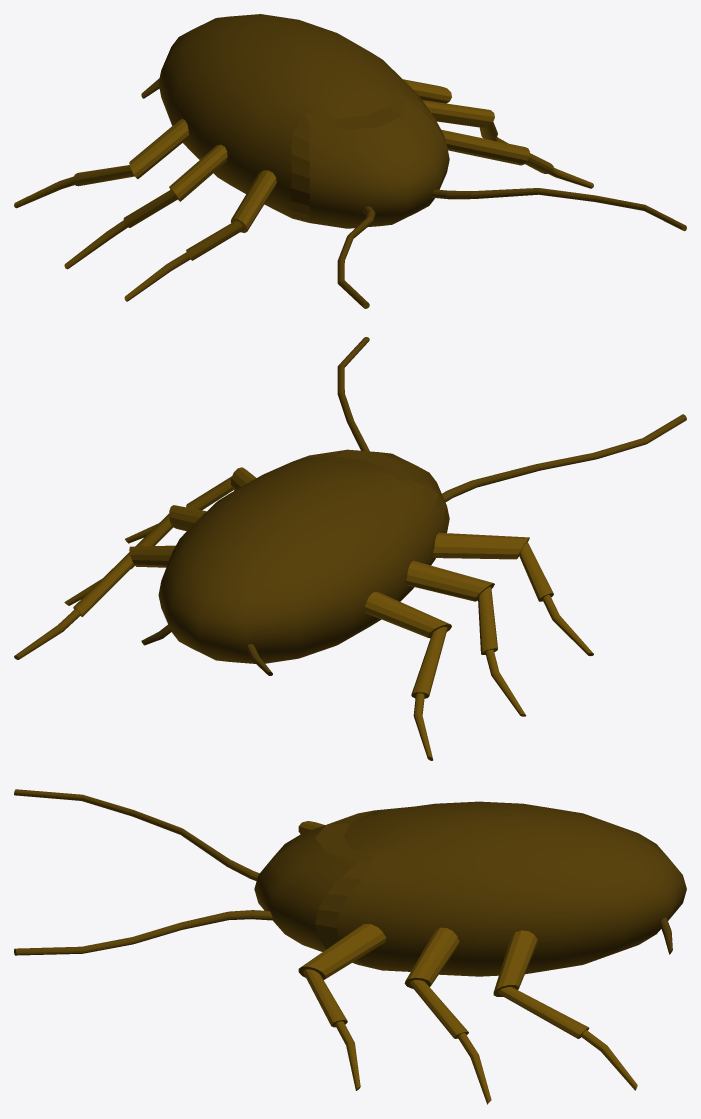
Rendered from cockroach.fbx.
3 renders of one model, top to bottom at view 1: azimuth 30°, elevation 25°; view 2: azimuth 150°, elevation 25°; view 3: azimuth 270°, elevation 25°, orthographic. The views are drawn at different scales.
Visible parts, largest first — view 1: Body, pasted__Tuier1, pasted__Tuier3, pasted__Tuier2, Tuier1, xuzi, Tuier2, xuzi1, Tuier3; view 2: Body, pasted__Tuier1, pasted__Tuier2, pasted__Tuier3, Tuier3, xuzi1, Tuier2, Tuier1, xuzi; view 3: Body, Tuier1, Tuier3, Tuier2, xuzi, xuzi1.
Part boxes in pixels (box(x1,y1,x2,y2)): Body: box(158, 14, 449, 228); pasted__Tuier1: box(124, 170, 276, 301); pasted__Tuier3: box(14, 119, 189, 208); pasted__Tuier2: box(64, 144, 227, 269); Tuier1: box(441, 129, 593, 188); xuzi: box(431, 188, 686, 231); Tuier2: box(422, 100, 508, 143); xuzi1: box(337, 206, 375, 308); Tuier3: box(403, 79, 451, 103); Body: box(158, 449, 449, 663); pasted__Tuier1: box(432, 532, 593, 656); pasted__Tuier2: box(406, 560, 526, 716); pasted__Tuier3: box(364, 591, 451, 760); Tuier3: box(14, 545, 175, 659); xuzi1: box(442, 414, 686, 502); Tuier2: box(64, 505, 206, 605); Tuier1: box(125, 467, 256, 543); xuzi: box(337, 337, 369, 451); Body: box(254, 801, 686, 976); Tuier1: box(298, 924, 386, 1090); Tuier3: box(493, 930, 637, 1090); Tuier2: box(404, 927, 491, 1104); xuzi: box(14, 910, 272, 955); xuzi1: box(14, 789, 259, 880).
Bounding box in the file's own units: 0.181 × 0.062 × 0.2186.
